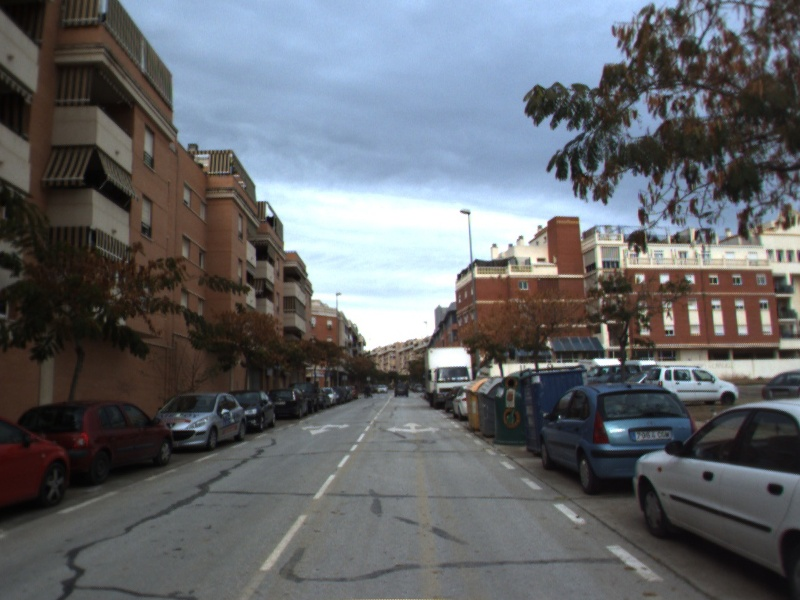STRAIGHT_LEFT_RIGHT: (384, 420, 442, 436)
